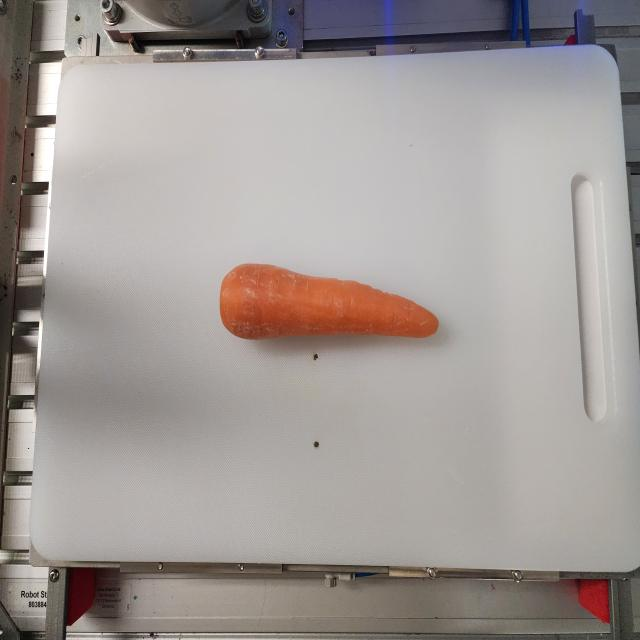carrot: (219, 262, 439, 340)
